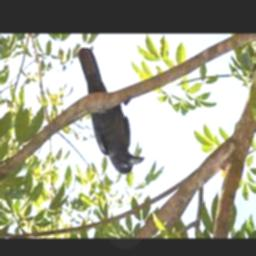Crow: (79, 47, 143, 174)
